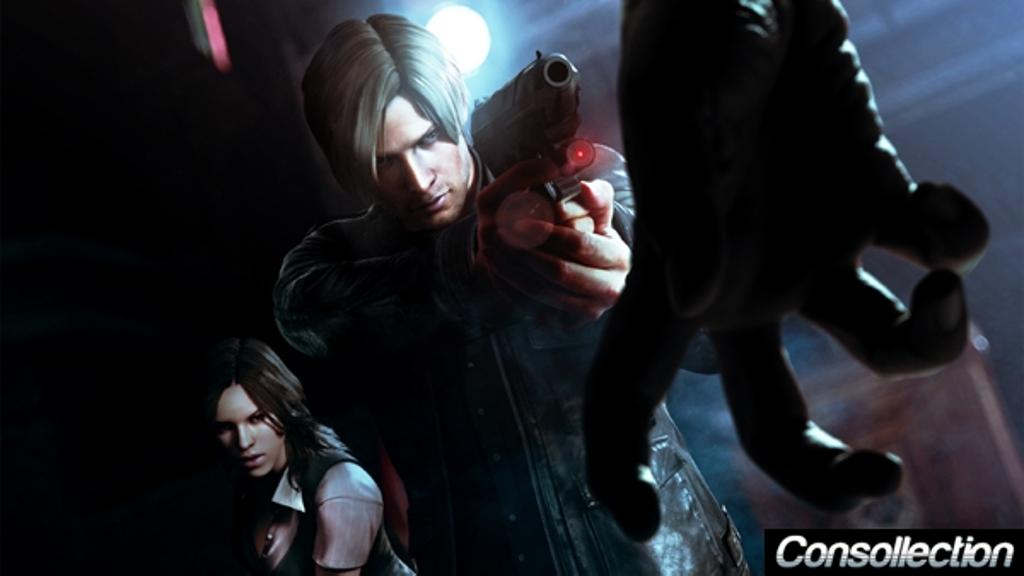face: (362, 96, 462, 230), (218, 382, 284, 484)
